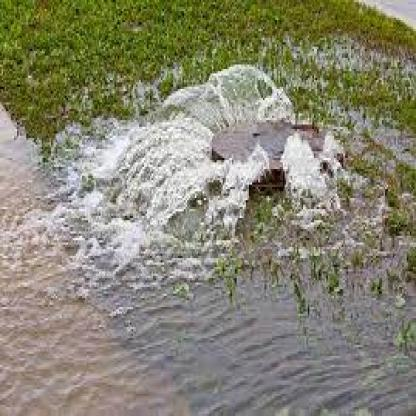drainage overflow-repair-: (75, 62, 393, 360)
